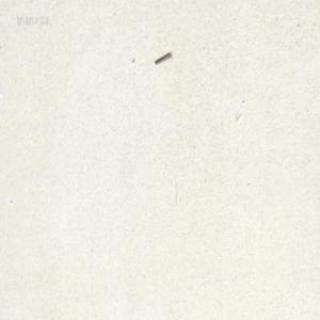Bolttrack_idkeyframe: (153, 49, 170, 62)
